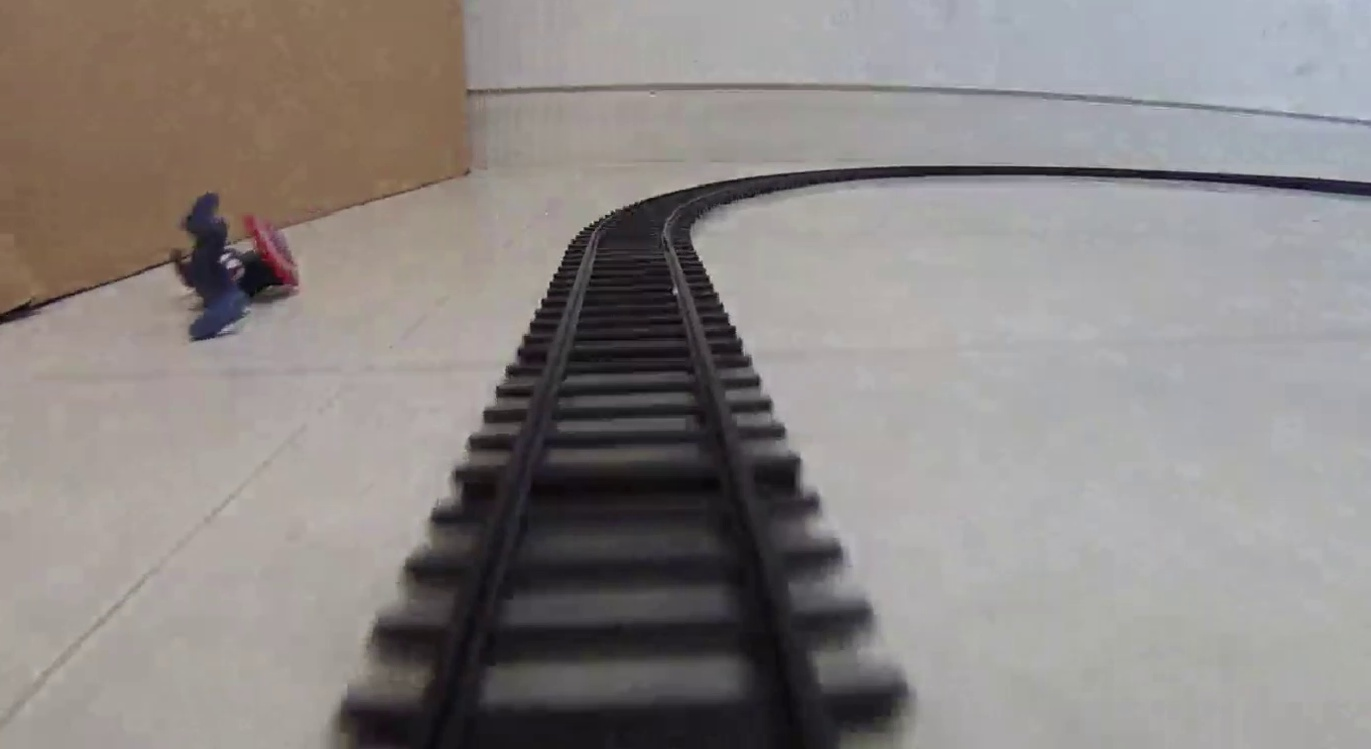people: (171, 191, 298, 340)
